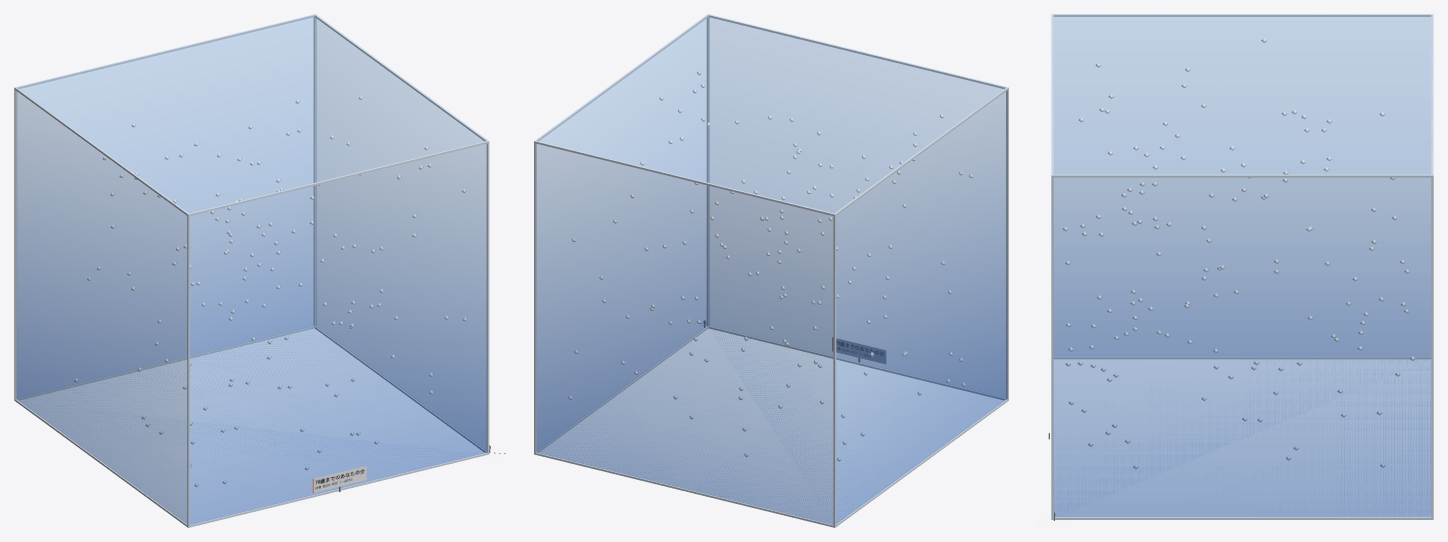
The model's file is cube_life_70.glb.
3 renders of one model, left to right at view 1: azimuth 30°, elevation 25°; view 2: azimuth 150°, elevation 25°; view 3: azimuth 270°, elevation 25°, orthographic. The views are drawn at different scales.
Parts seen in each view (by area): view 1: co2, edge, dots, label; view 2: co2, edge, dots, label; view 3: co2, edge, dots.
Part boxes in pixels (x1,y1,x2,y2): co2: [16, 15, 486, 524]; edge: [14, 14, 489, 527]; dots: [74, 96, 466, 487]; label: [312, 466, 366, 492]; co2: [536, 15, 1006, 524]; edge: [534, 14, 1008, 527]; dots: [568, 71, 973, 461]; label: [832, 337, 885, 363]; co2: [1053, 15, 1432, 516]; edge: [1051, 14, 1433, 519]; dots: [1062, 38, 1415, 469].
Bounding box in the file's own units: 70.29 × 66.53 × 69.39.
Materials: 8 (3 with a texture image).
